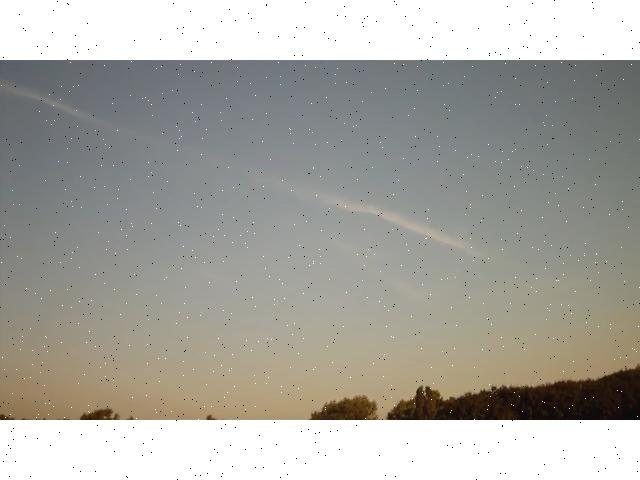Anti-Drone: (450, 275, 464, 285)
